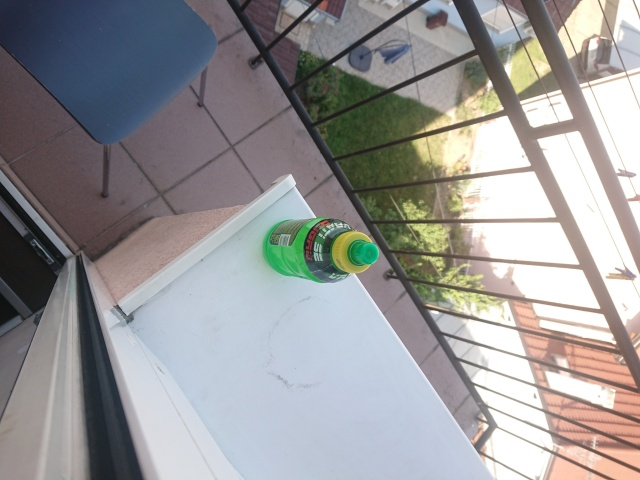Vindi Iso Sport Lemon-Grapefruit 500mL: (259, 214, 382, 286)
